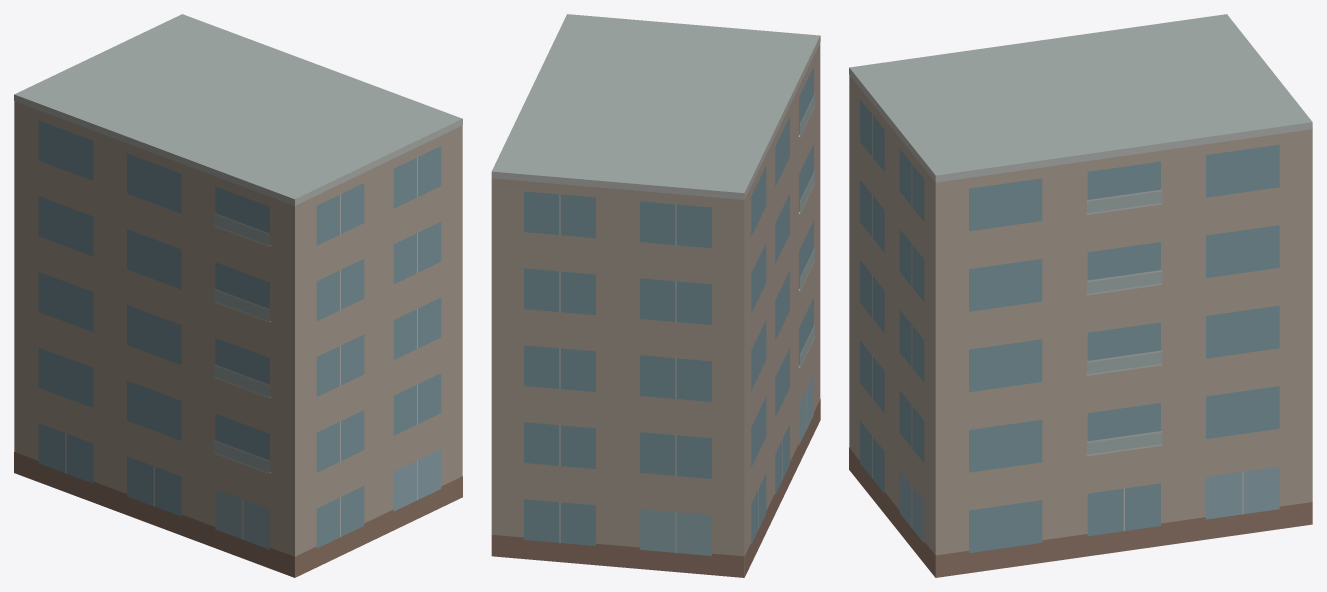
The model's file is survey-upis-32891585.glb.
3 renders of one model, left to right at view 1: azimuth 30°, elevation 25°; view 2: azimuth 150°, elevation 25°; view 3: azimuth 270°, elevation 25°, orthographic. The views are drawn at different scales.
Parts seen in each view (by area): view 1: survey-upis-32891585.tmp; view 2: survey-upis-32891585.tmp; view 3: survey-upis-32891585.tmp.
Boxes of the visible parts, left/top/right/bottom form: survey-upis-32891585.tmp: left=14, top=14, right=462, bottom=577; survey-upis-32891585.tmp: left=491, top=14, right=820, bottom=577; survey-upis-32891585.tmp: left=849, top=14, right=1312, bottom=577.
Size of the model in its own units: 12.03 by 13.95 by 14.58.
